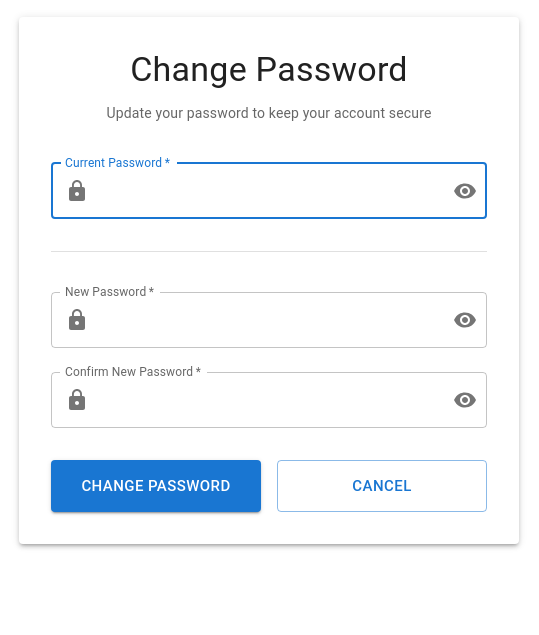
Test case: PasswordChangeForm › validates required fields
Click the button "Change Password": (156, 486) x1=51 y1=460 x2=261 y2=512
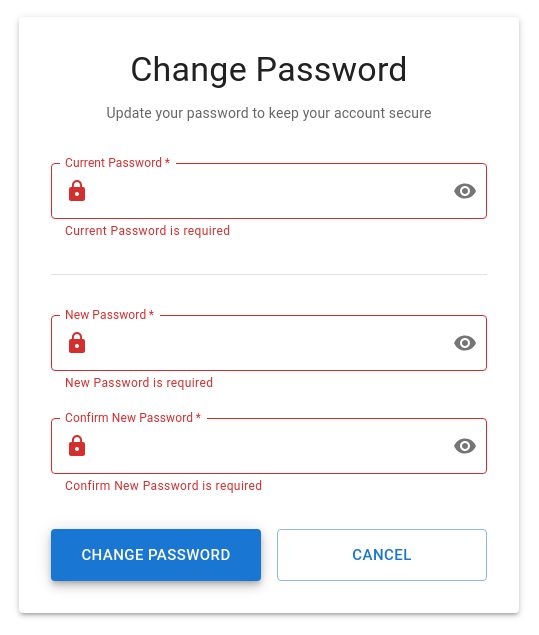
Result: the text "Current Password is required" is shown at x1=65 y1=224 x2=230 y2=238
Result: the text "New Password is required" is shown at x1=65 y1=376 x2=213 y2=390
Result: the text "Confirm New Password is required" is shown at x1=65 y1=479 x2=262 y2=493
